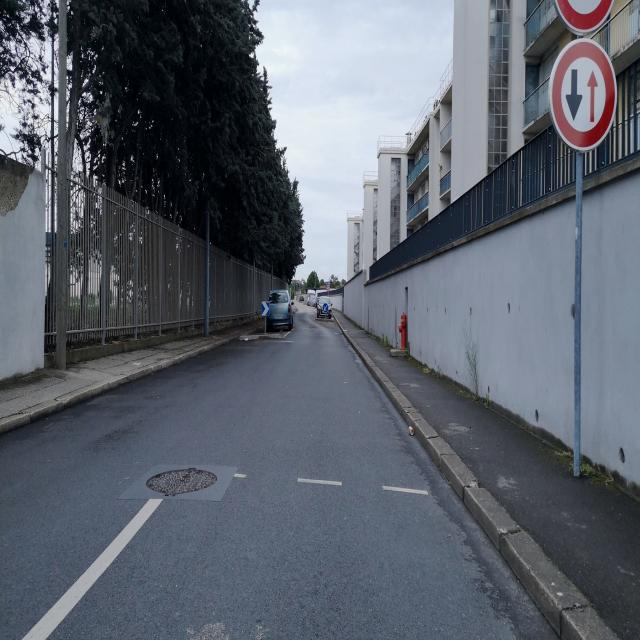car: (265, 287, 294, 332), (316, 301, 333, 320), (306, 290, 316, 305)
